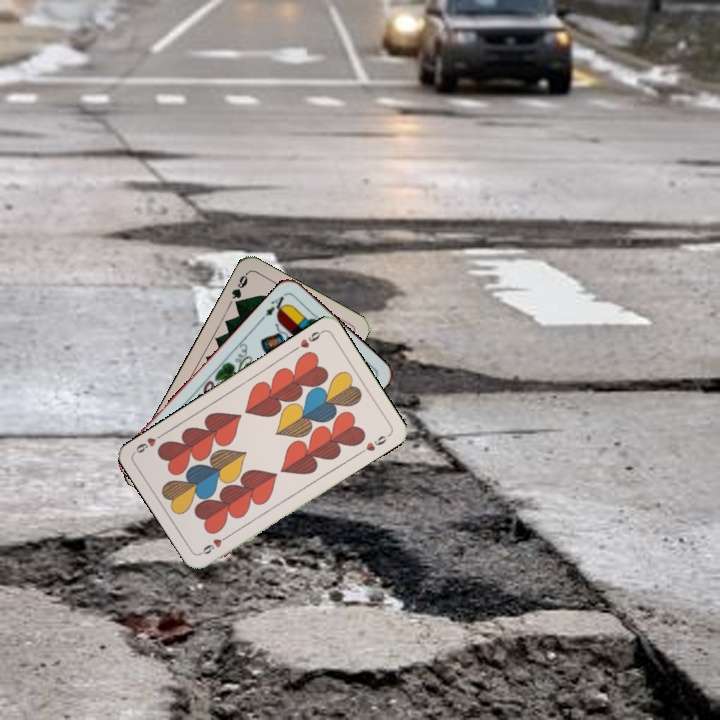EA: (257, 292, 290, 322)
G9: (227, 269, 250, 310)
H9: (197, 530, 233, 557), (290, 327, 326, 353)
